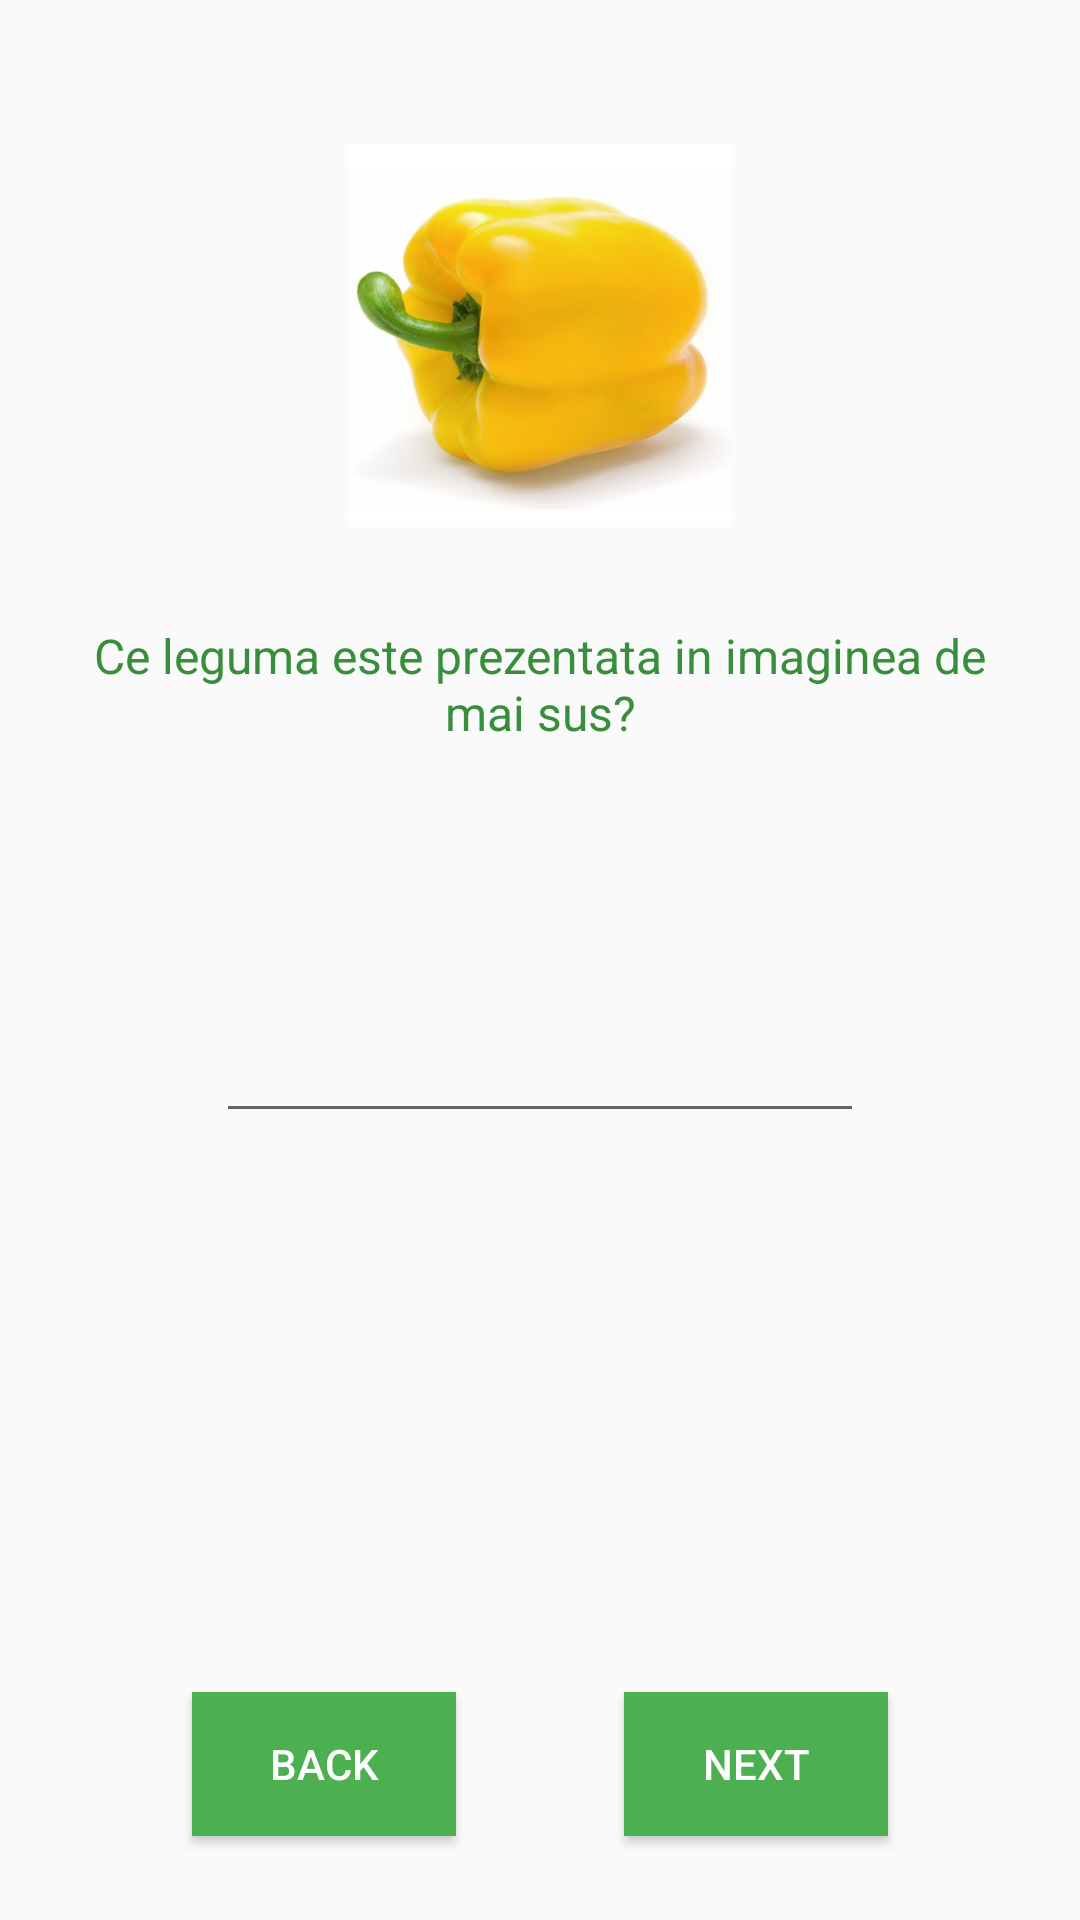

Locate icon controls on the screen. Image size 1080*1920, boxes as (x1, y1, x2, y2).
ardei galben: (356, 197, 708, 501)
